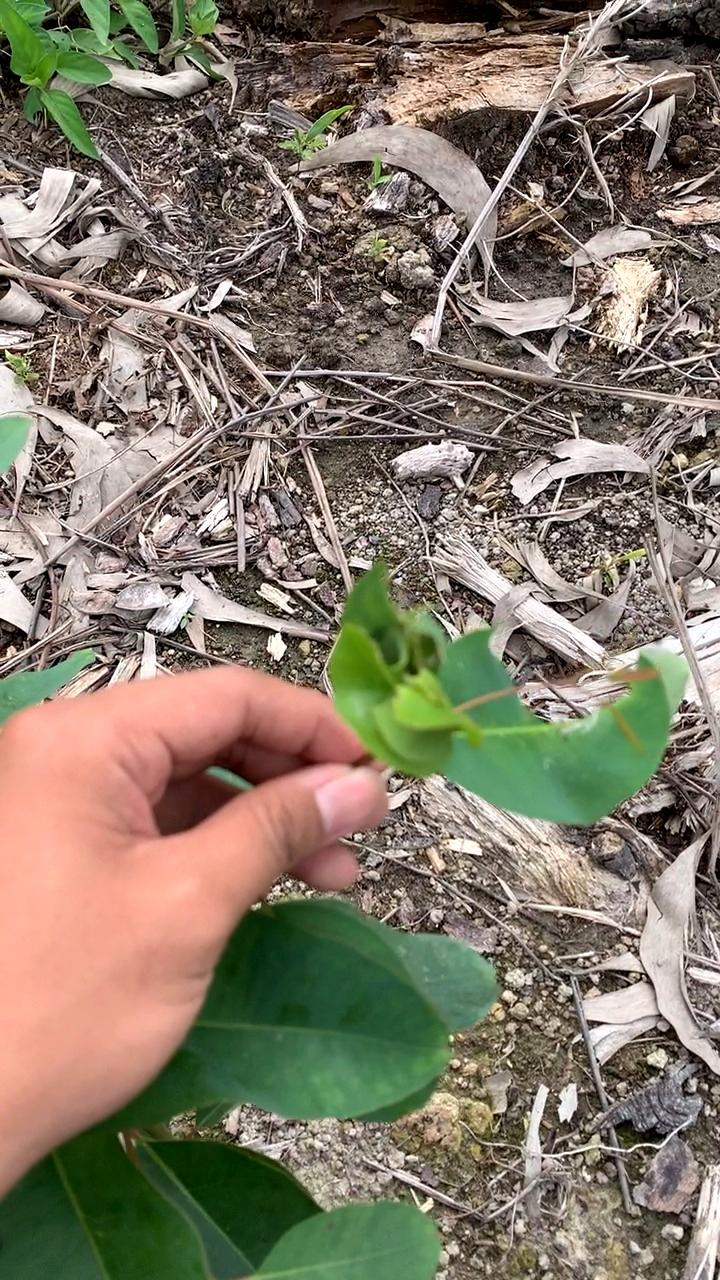Leaf Roller - Leaf: (328, 573, 497, 809)
